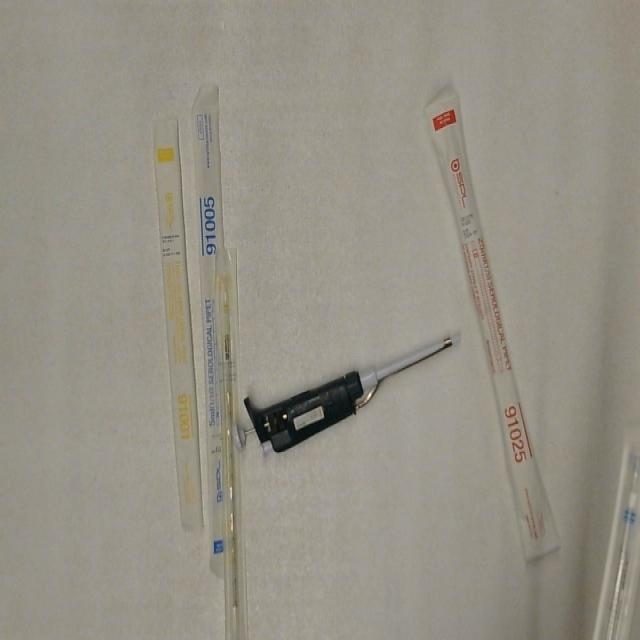Serelogical Pipet 1 mL: (152, 113, 207, 537), (215, 240, 250, 640)
Serelogical Pipet 25 mL: (424, 86, 563, 565)
Serelogical Pipet 5 mL: (192, 84, 254, 582), (592, 425, 640, 640)
Single Channel Pipettor: (231, 328, 467, 453)
